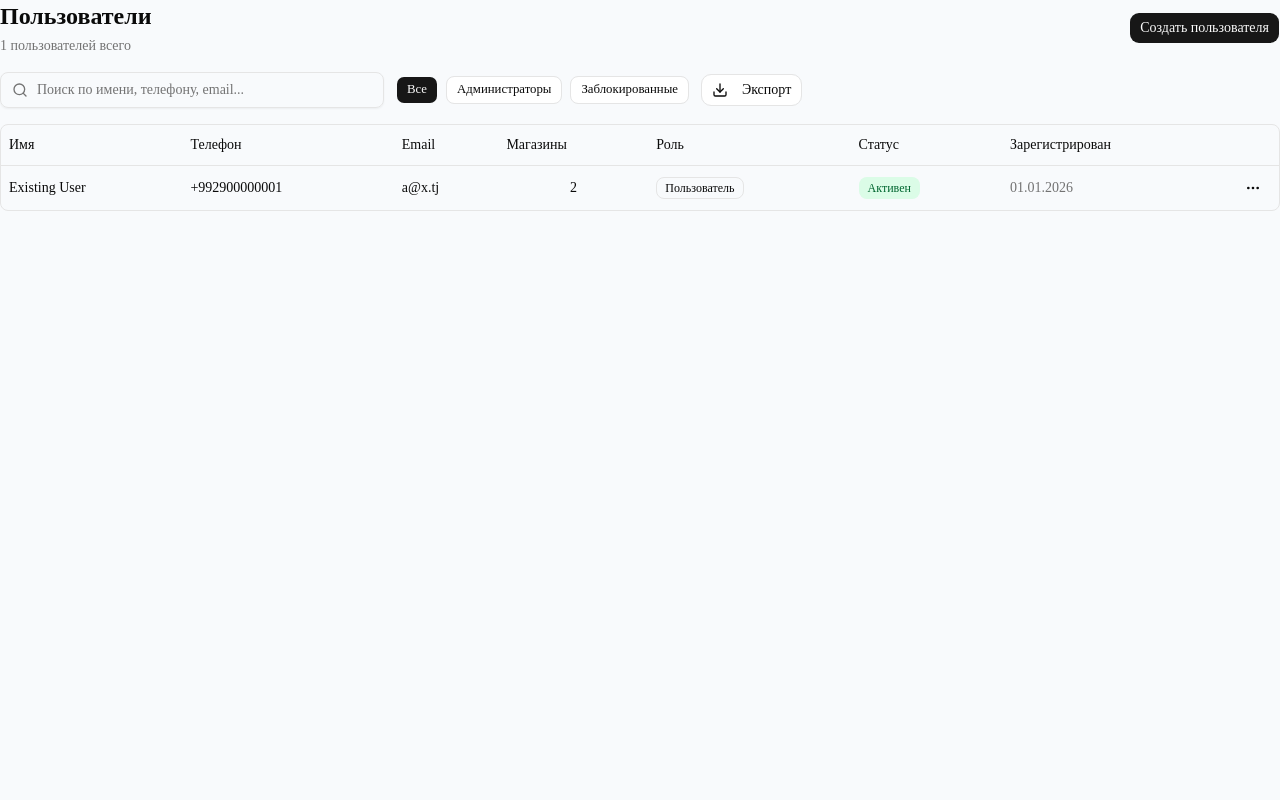
Scenario: UsersPage — manual user creation › shows a one-time password dialog with a copy button when the server generates the password
Expected: the text "Existing User" is shown, [9,180,86,194]
Click the button "Создать пользователя" at (1205, 28), box [1129,12,1279,44]
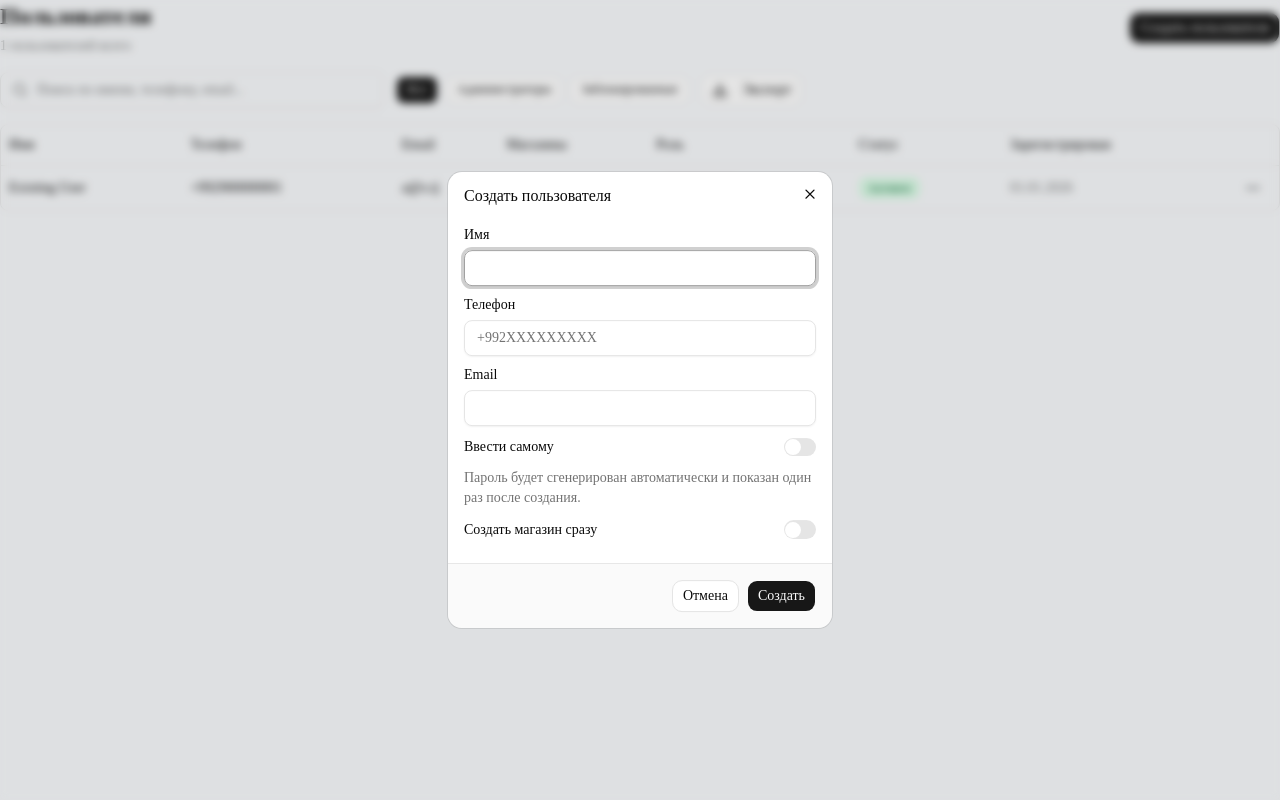
Type "Сгенерированный" into the field labelled "Имя" at (640, 268), box [464,250,816,286]
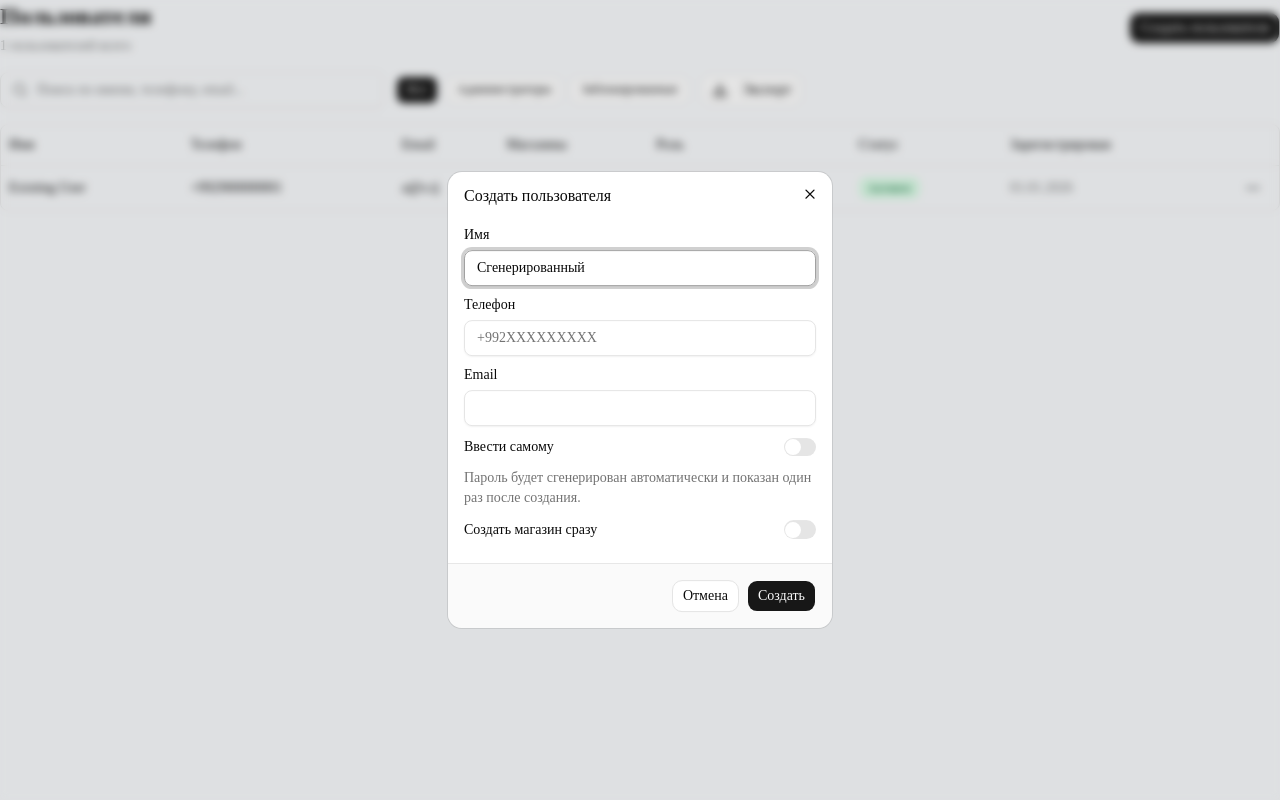
Type "+992901112244" into the field labelled "Телефон" at (640, 338), box [464,320,816,356]
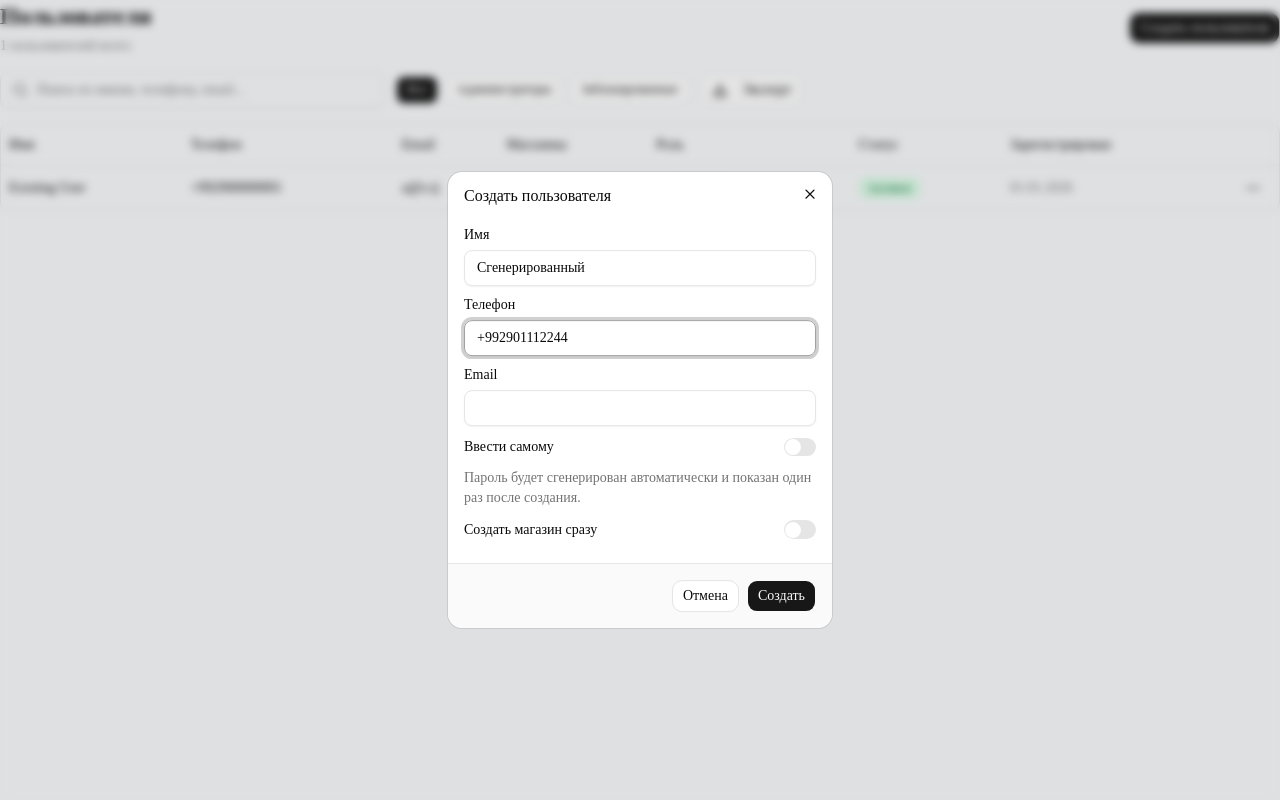
# Password mode defaults to "generate" — submit without touching the switch.
Click the button "Создать" at (781, 596), box [747,580,816,612]
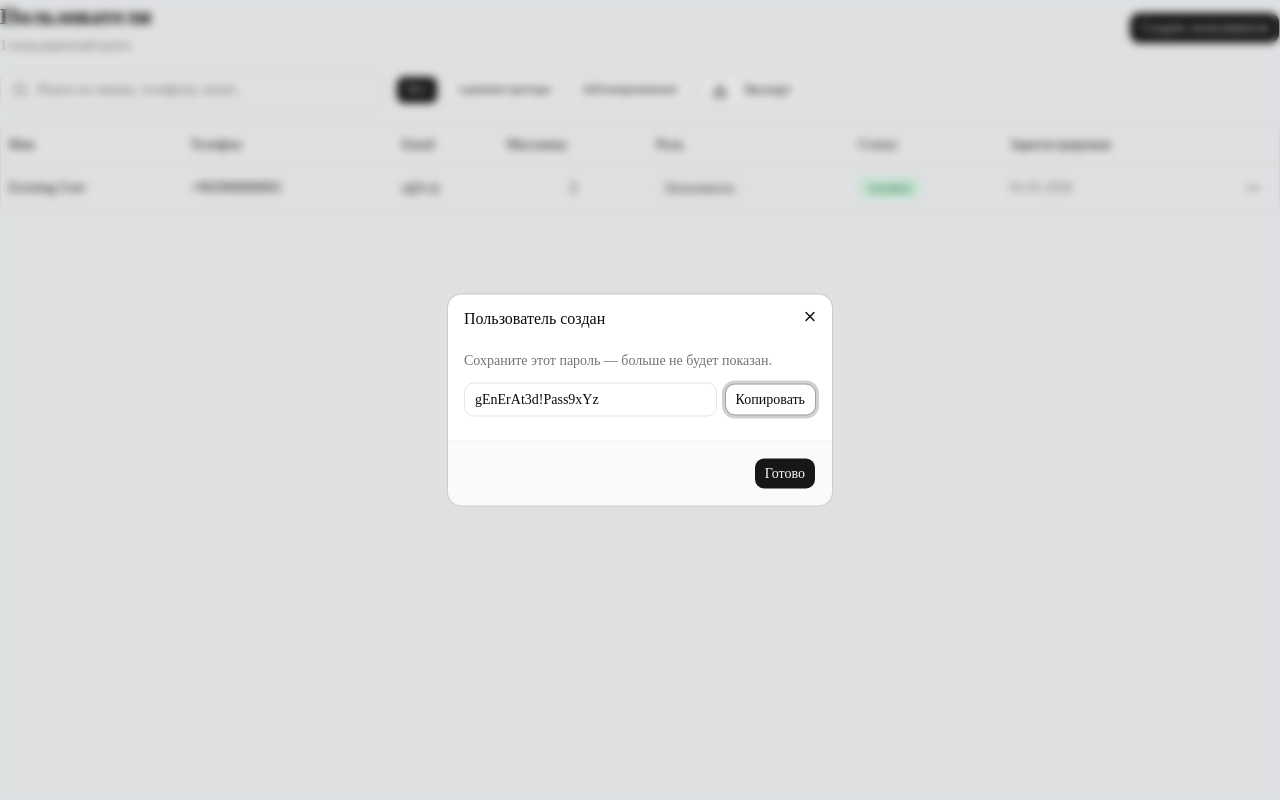
Expected: the text "gEnErAt3d!Pass9xYz" is shown, [464,382,717,416]
Expected: the text "Сохраните этот пароль — больше не будет показан." is shown, [464,350,816,370]
